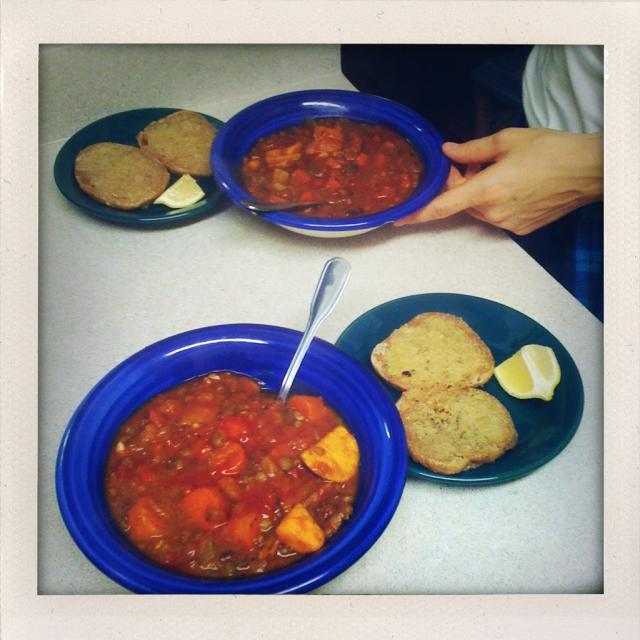Lemon: (491, 340, 563, 405), (155, 172, 208, 212)
